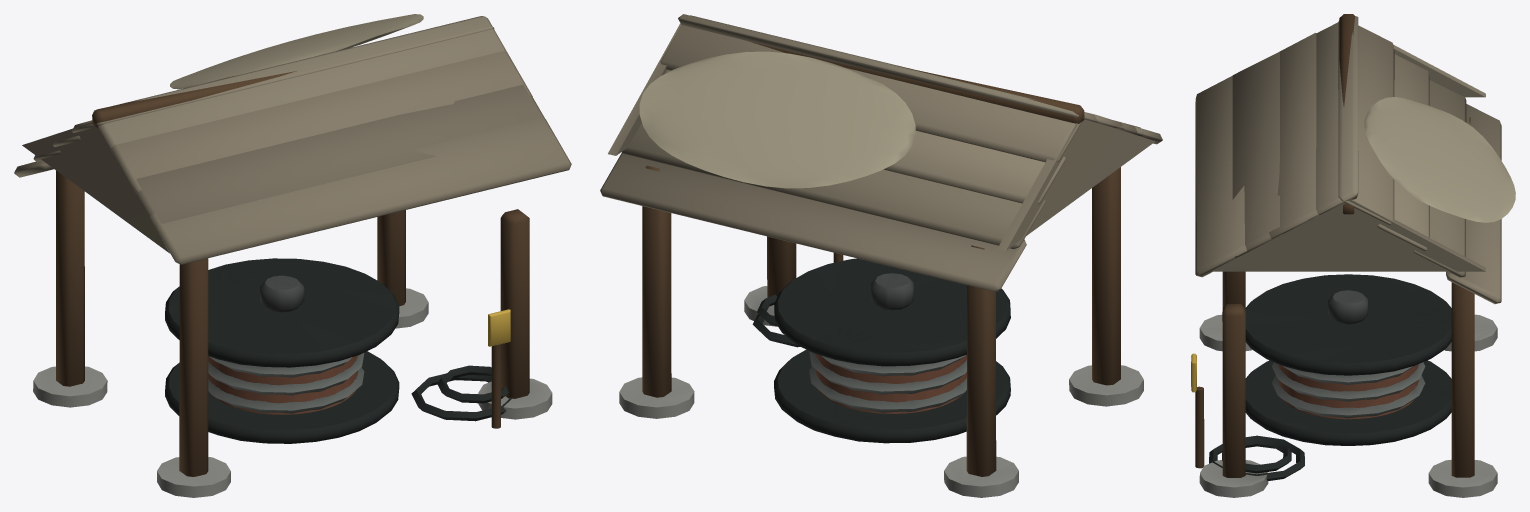
File: spool_shed_b.glb
3 views of the same model, side by side, from view 1: azimuth 30°, elevation 25°; view 2: azimuth 150°, elevation 25°; view 3: azimuth 270°, elevation 25° (orthographic). The views are drawn at different scales.
Parts seen in each view (by area): view 1: Surface; view 2: Surface; view 3: Surface.
Part boxes in pixels (<box>): Surface: <box>14,14,571,497</box>; Surface: <box>600,14,1162,497</box>; Surface: <box>1191,14,1515,497</box>.
Bounding box in the file's own units: 3.71 × 2.98 × 2.84.
